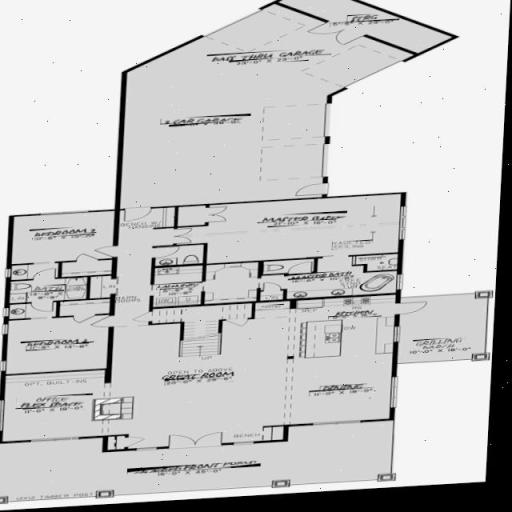Room: (281, 350, 389, 424), (10, 372, 100, 440), (16, 313, 106, 369), (156, 269, 196, 306)
bathroom: (262, 263, 391, 297)
bedroom: (18, 215, 114, 255)
garage: (131, 70, 323, 190), (140, 10, 397, 78)
hall: (119, 309, 277, 426), (183, 205, 390, 260)
kitchen: (298, 302, 389, 340)
